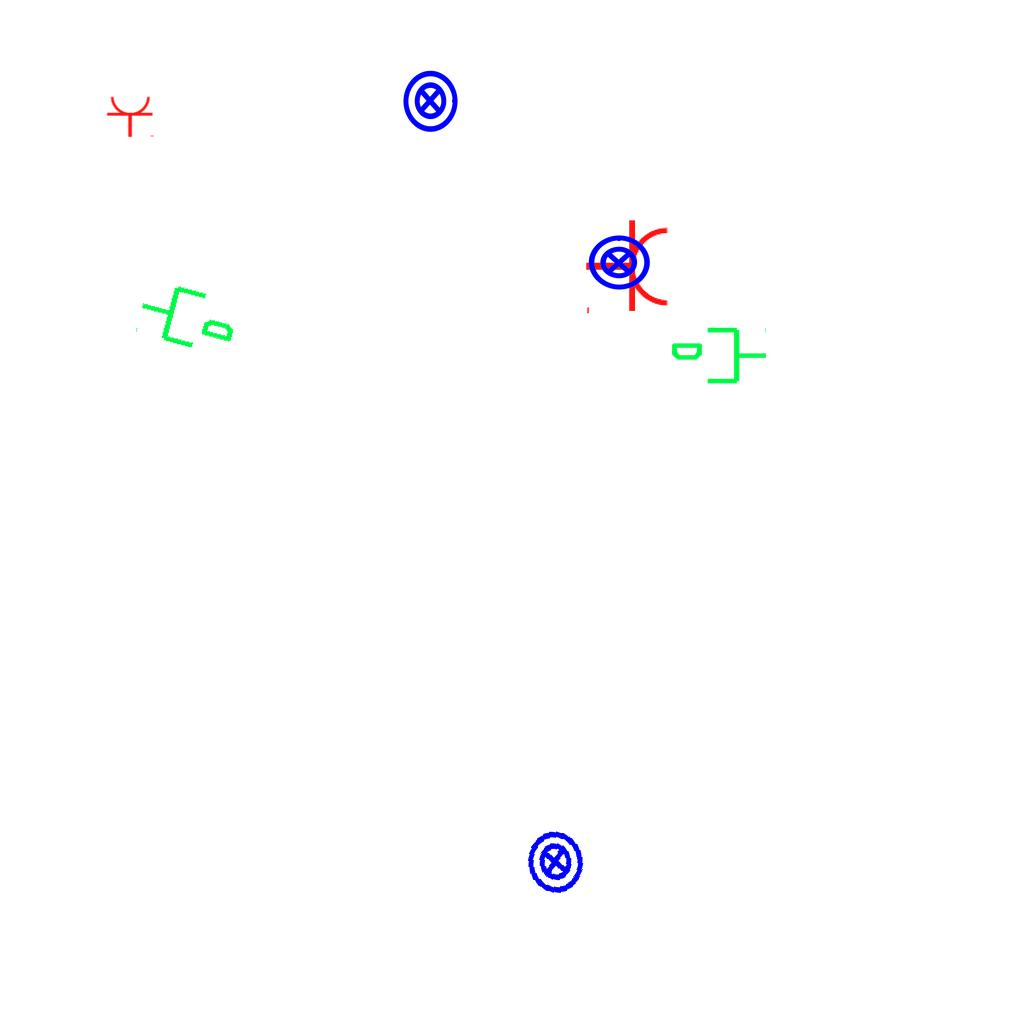Datenanschluss_einfach: (131, 269, 246, 363), (669, 323, 769, 392)
Schukosteckdose_einfach: (584, 218, 671, 318), (106, 95, 156, 138)
Taster_beleuchtet: (517, 824, 593, 900), (397, 68, 463, 134), (586, 230, 652, 296)
